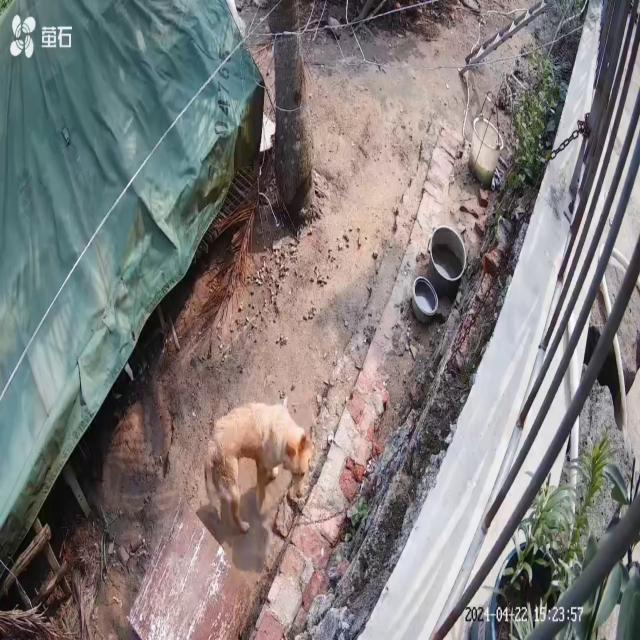dog: (204, 399, 316, 536)
